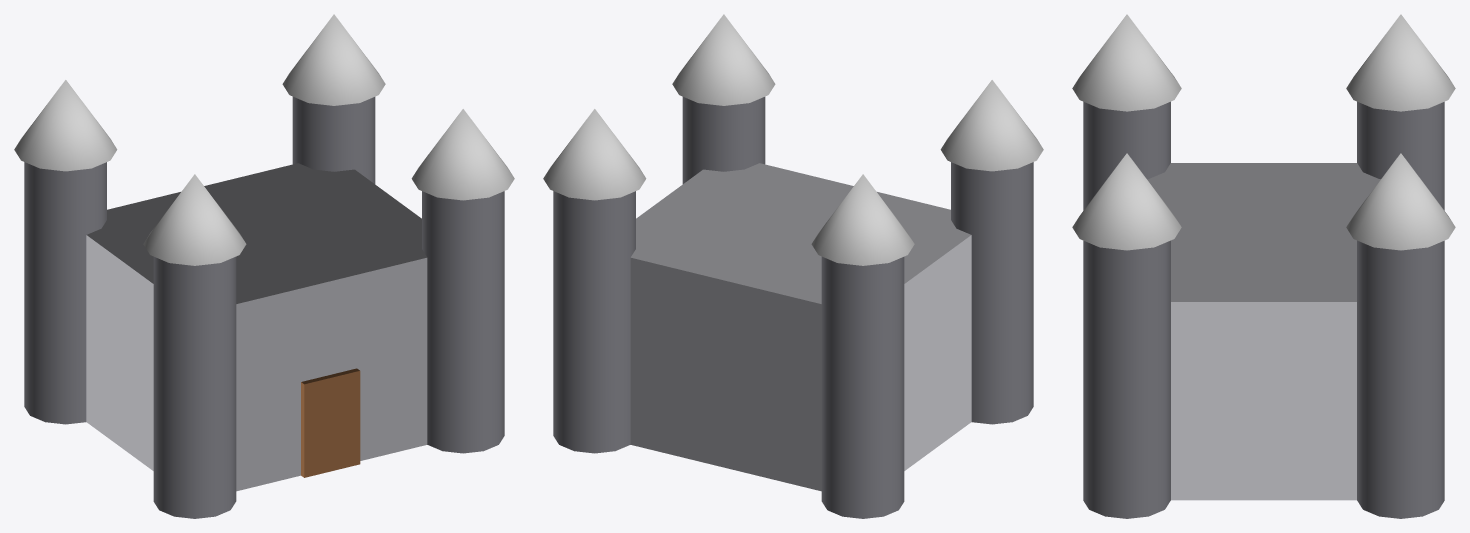
Rendered from castelo.obj.
3 renders of one model, left to right at view 1: azimuth 30°, elevation 25°; view 2: azimuth 150°, elevation 25°; view 3: azimuth 270°, elevation 25°, orthographic. The views are drawn at different scales.
Visible parts, largest first — view 1: muralha, torre, telhado_torre, portao; view 2: muralha, torre, telhado_torre; view 3: muralha, torre, telhado_torre.
Boxes of the visible parts, box(x1,y1,x2,y2) form: muralha: box(86, 163, 427, 491); torre: box(24, 97, 504, 518); telhado_torre: box(14, 14, 514, 265); portao: box(301, 368, 360, 477); muralha: box(630, 163, 971, 491); torre: box(553, 97, 1033, 518); telhado_torre: box(543, 14, 1043, 265); muralha: box(1147, 163, 1380, 500); torre: box(1083, 101, 1444, 518); telhado_torre: box(1072, 14, 1455, 250).
Bounding box in the file's own units: 16 × 14 × 14.
